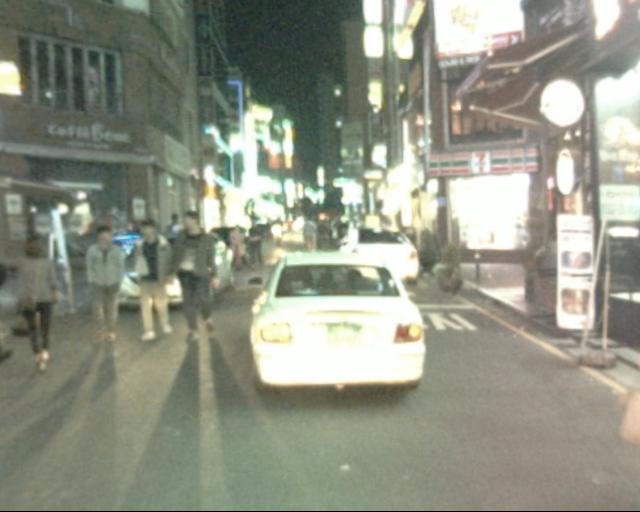person: (168, 213, 213, 353), (23, 234, 62, 373), (82, 233, 125, 339), (134, 217, 165, 344)
